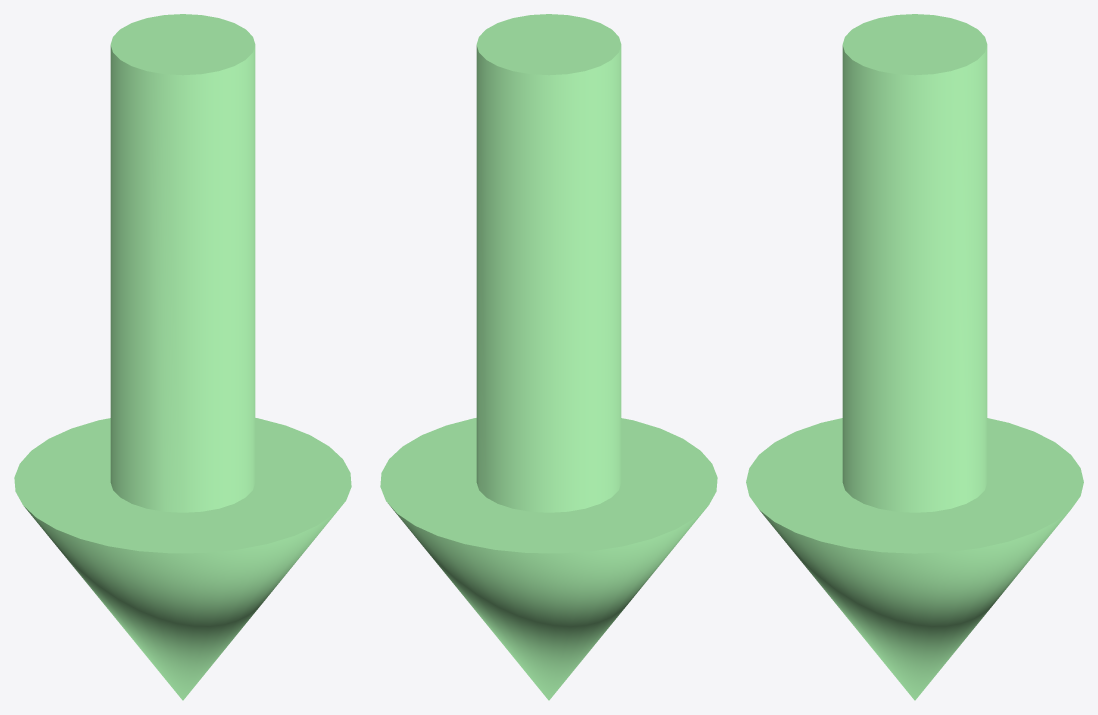
The model's file is NaviMeshPointer.fbx.
The picture shows the model from 3 angles, left to right: view 1: azimuth 30°, elevation 25°; view 2: azimuth 150°, elevation 25°; view 3: azimuth 270°, elevation 25°; orthographic projection.
Parts seen in each view (by area): view 1: Cylinder.001; view 2: Cylinder.001; view 3: Cylinder.001.
Boxes of the visible parts, box(x1,y1,x2,y2) form: Cylinder.001: box(14, 14, 351, 700); Cylinder.001: box(380, 14, 717, 700); Cylinder.001: box(746, 14, 1083, 700).
Size of the model in its own units: 1.4 by 3 by 1.4.
